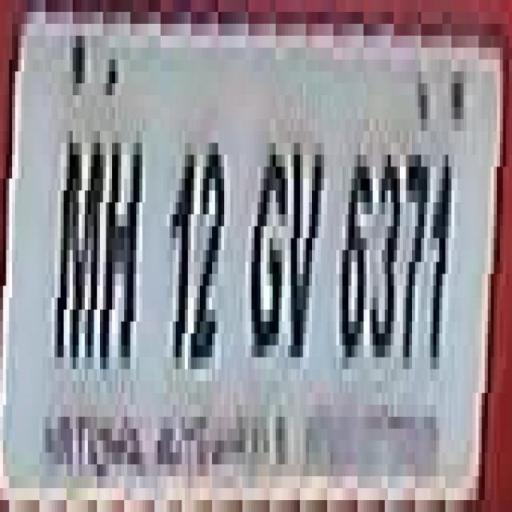number plate: (17, 47, 512, 476)
